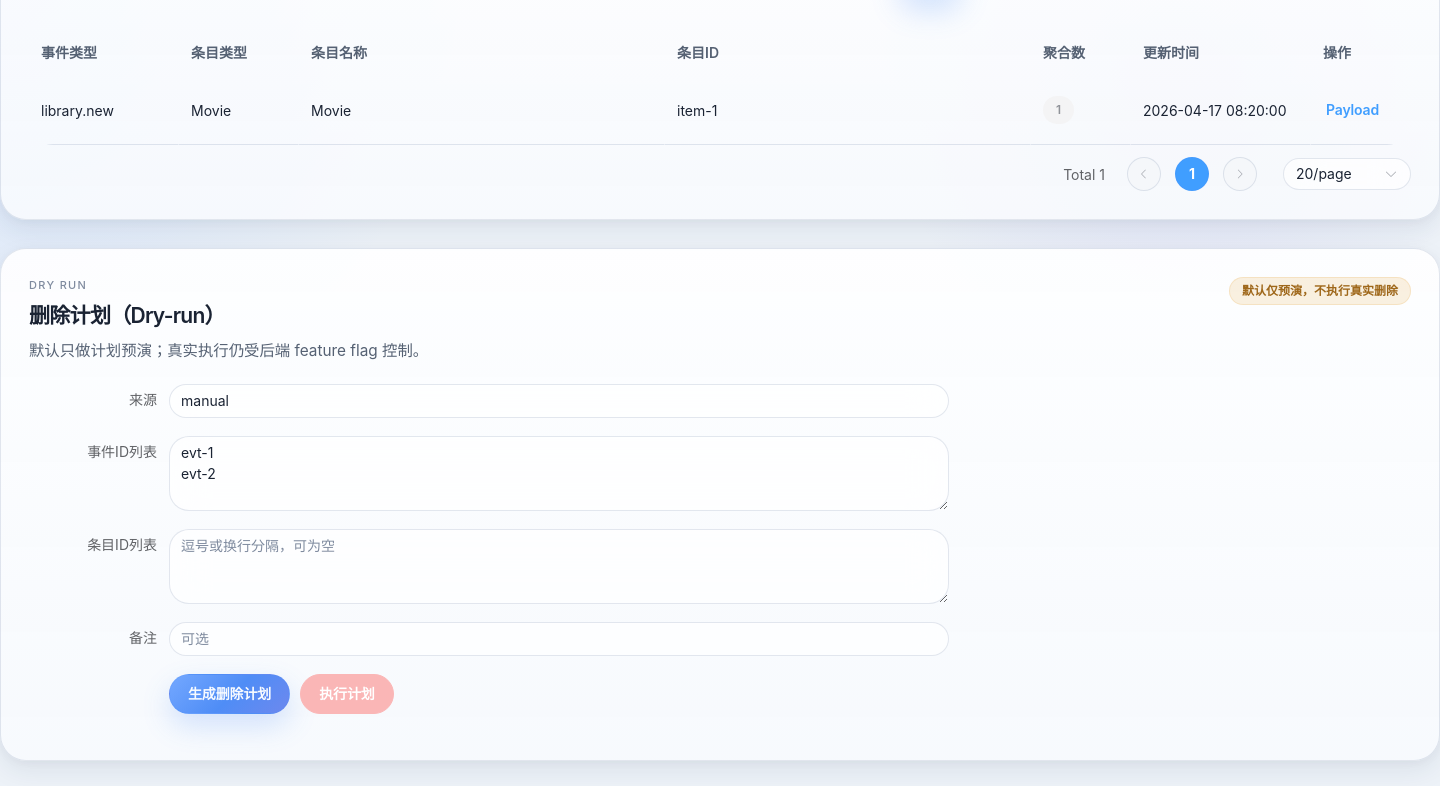
Test: EmbyMonitorView › creates a dry-run delete plan and updates the hero-side summary
This screenshot has width=1440, height=786.
(page scrolled)
Click the button "生成删除计划": (230, 694) [169,674,290,714]
(page scrolled)
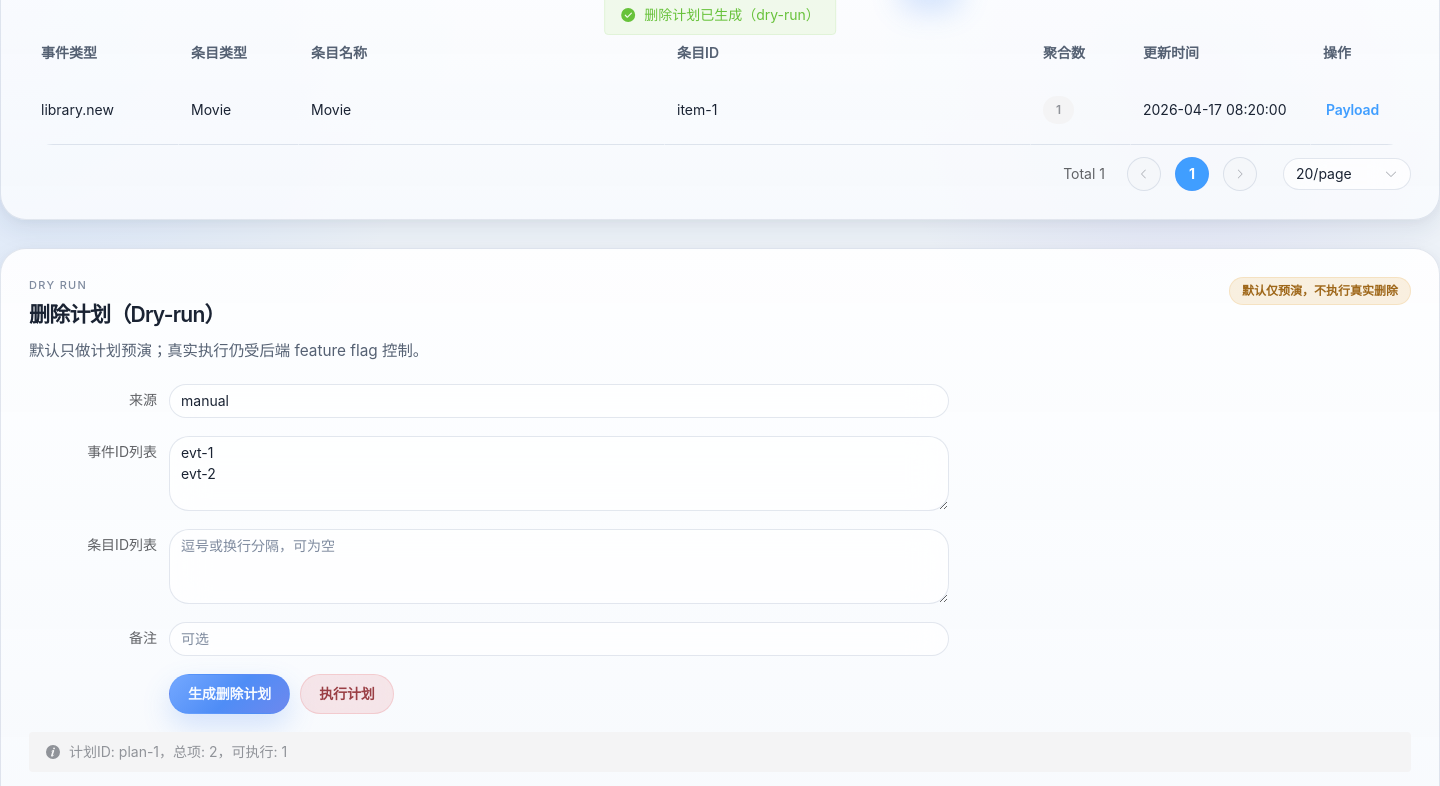
Expected: the text "plan-1" is shown, [69,743,287,760]
